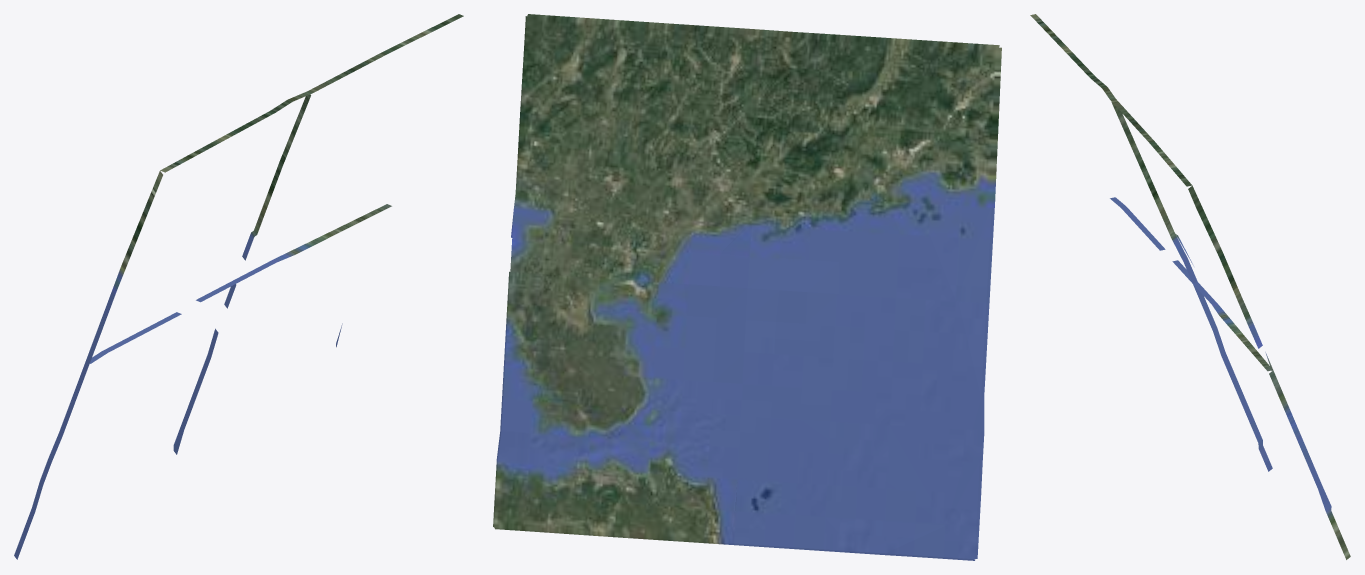
The picture shows the model from 3 angles, left to right: view 1: azimuth 30°, elevation 25°; view 2: azimuth 150°, elevation 25°; view 3: azimuth 270°, elevation 25°; orthographic projection. The views are drawn at different scales.
Bounding box in the file's own units: 316868 × 295244 × 214485.
1 material, 1 textured.
